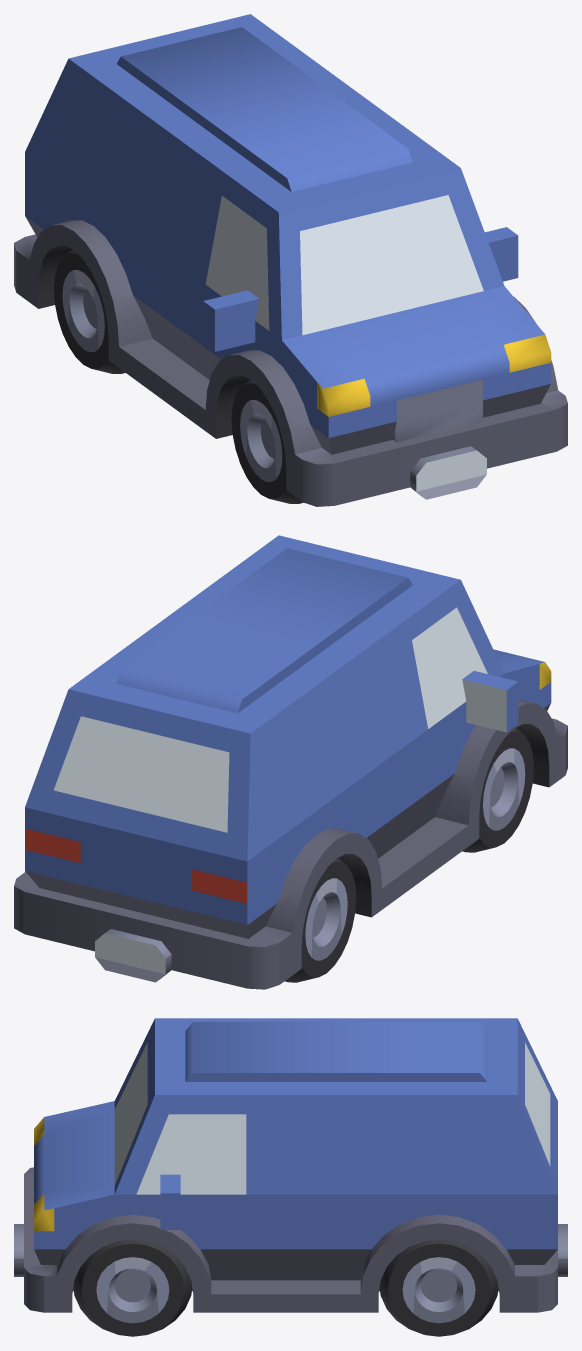
Rendered from prop-car-van-B_X1-FTw.glb.
3 renders of one model, top to bottom at view 1: azimuth 30°, elevation 25°; view 2: azimuth 150°, elevation 25°; view 3: azimuth 270°, elevation 25°, orthographic. The views are drawn at different scales.
Visible parts, largest first — view 1: car-van (×2); view 2: car-van (×2); view 3: car-van (×2).
Boxes of the visible parts, box(x1,y1,x2,y2) form: car-van (×2): box(14, 14, 567, 506); car-van (×2): box(14, 535, 567, 989); car-van (×2): box(14, 1018, 567, 1336).
Size of the model in its own units: 1.5 by 1.35 by 2.75.
